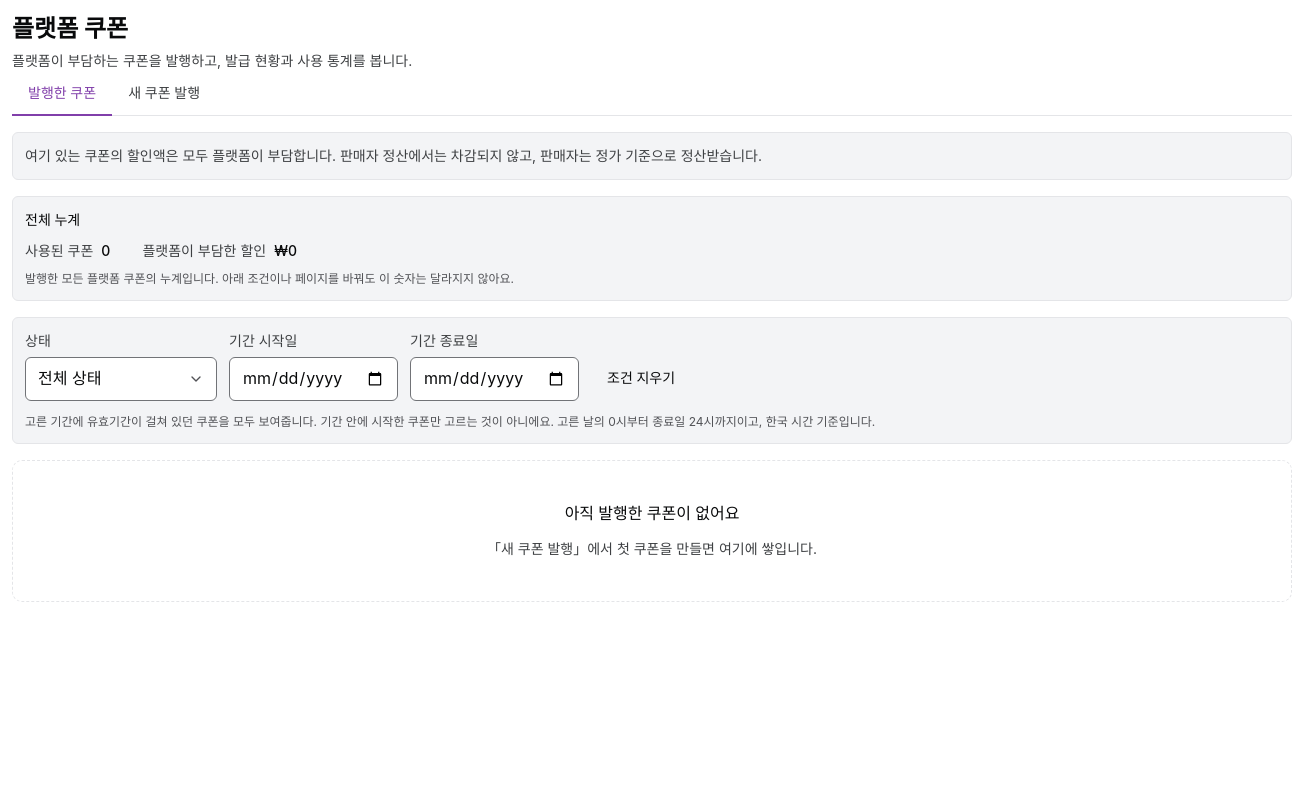
Test: 발행한 쿠폰 목록 › says an empty console is empty, and says it differently when a filter caused it
This screenshot has width=1292, height=812.
Expected: the text "아직 발행한 쿠폰이 없어요" is shown, x1=565 y1=500 x2=739 y2=526
Click the dropdown labelled "전체 상태".
click(121, 378)  # box x1=25 y1=356 x2=217 y2=400
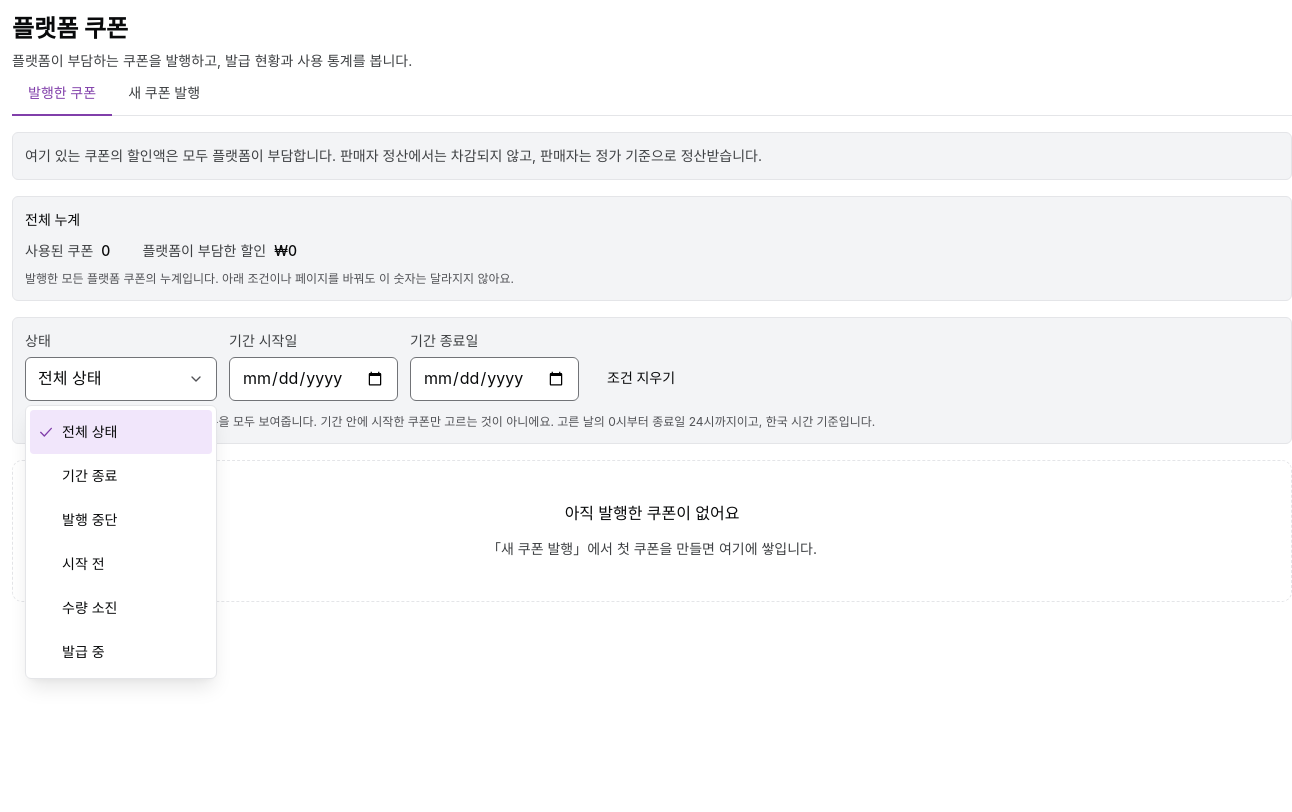
Click the option "발급 중".
click(83, 651)  # box x1=62 y1=643 x2=105 y2=660
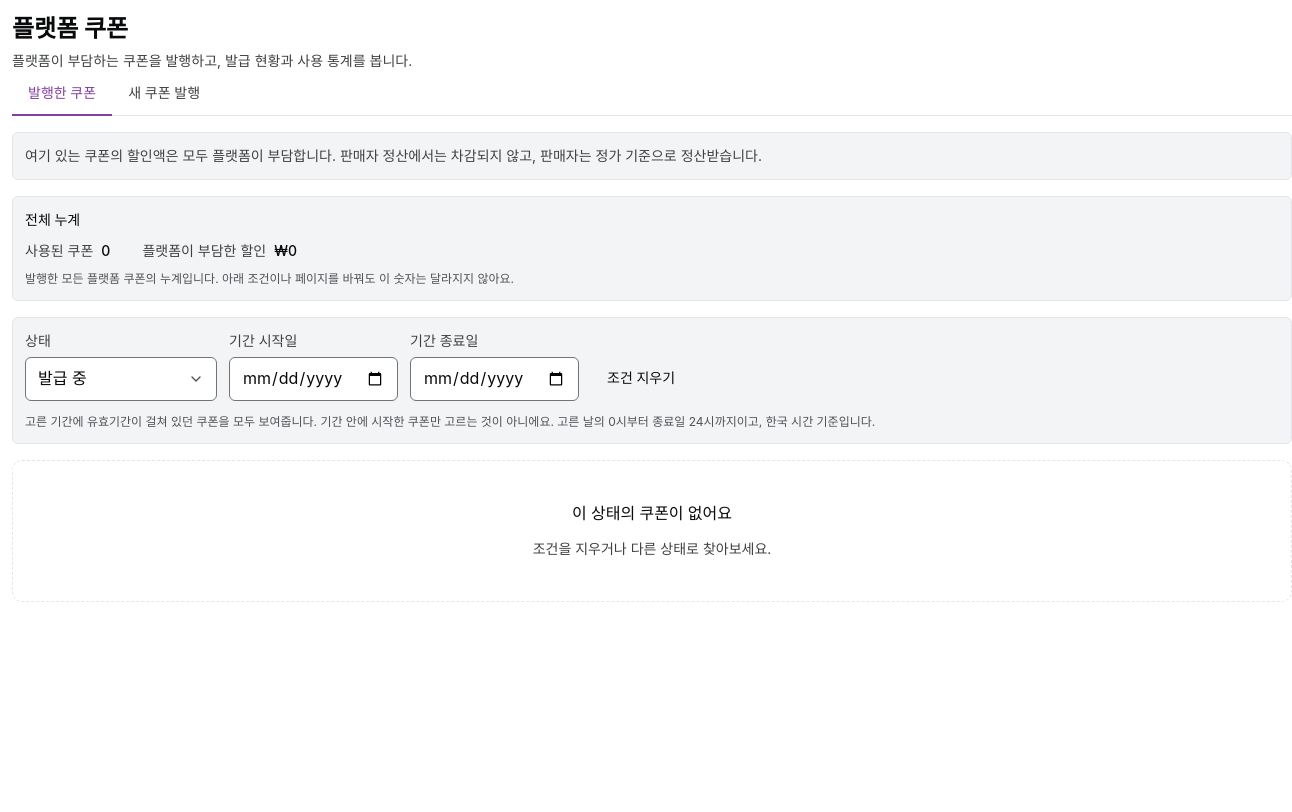
Now the text "이 상태의 쿠폰이 없어요" is shown, box x1=572 y1=500 x2=732 y2=526
